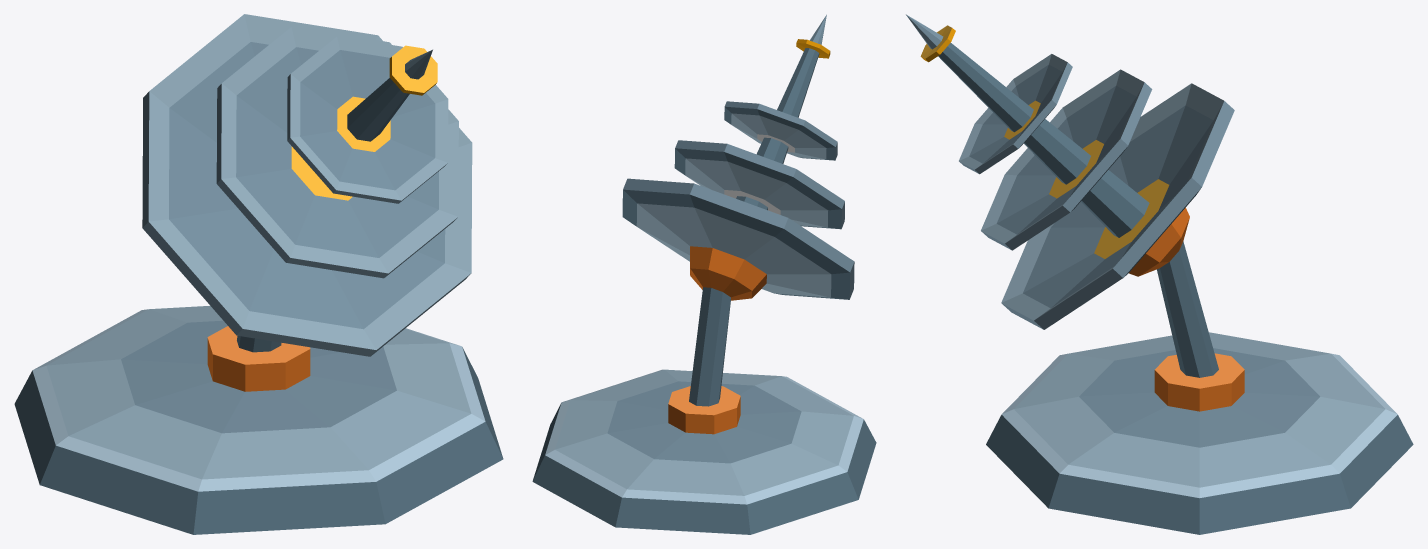
File: Antenna_02.glb
3 views of the same model, side by side, from view 1: azimuth 30°, elevation 25°; view 2: azimuth 150°, elevation 25°; view 3: azimuth 270°, elevation 25° (orthographic). The views are drawn at different scales.
Parts seen in each view (by area): view 1: Antenna_02; view 2: Antenna_02; view 3: Antenna_02.
Part boxes in pixels (x1,y1,x2,y2): Antenna_02: (14, 14, 503, 534); Antenna_02: (532, 14, 876, 534); Antenna_02: (906, 14, 1413, 534).
Size of what is drawn, in the model's own units: 1.35 by 1.5 by 1.6.
Materials: 1 (1 with a texture image).
